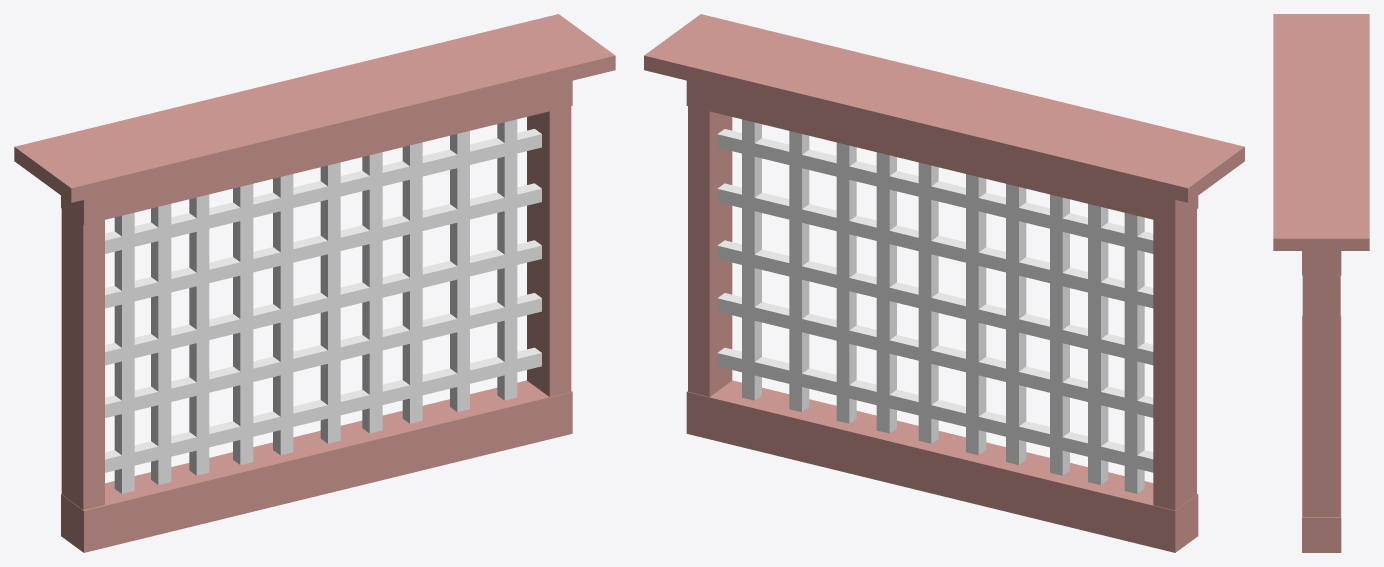
The model's file is sweethome3d-contributions-border-fence-170.glb.
3 views of the same model, side by side, from view 1: azimuth 30°, elevation 25°; view 2: azimuth 150°, elevation 25°; view 3: azimuth 270°, elevation 25° (orthographic). The views are drawn at different scales.
Visible parts, largest first — view 1: top, frame_2, frame_3, frame_1, frame, Cube_2_1, Cube_2_3, Cube_2_2, Cube_2, Cube_2_4, Cube_1_8, Cube_1_7 (+8 smaller); view 2: top, frame_2, frame_3, frame_1, frame, Cube_2_1, Cube_2_2, Cube_2_3, Cube_2_4, Cube_2, Cube_1_1, Cube_1_3 (+8 smaller); view 3: top, frame, frame_2, frame_3.
Part boxes in pixels (x1,y1,x2,y2): top: (14,14,615,202); frame_2: (61,380,572,552); frame_3: (61,80,572,224); frame_1: (61,209,104,509); frame: (527,106,571,396); Cube_2_1: (105,240,541,365); Cube_2_3: (105,129,541,253); Cube_2_2: (105,183,541,308); Cube_2: (105,293,541,417); Cube_2_4: (105,347,541,472); Cube_1_8: (151,204,171,484); Cube_1_7: (189,194,209,475); top: (644,14,1244,202); frame_2: (686,380,1198,552); frame_3: (686,80,1198,224); frame_1: (1153,209,1196,510); frame: (688,106,732,396); Cube_2_1: (717,240,1153,365); Cube_2_2: (717,183,1153,308); Cube_2_3: (717,129,1153,253); Cube_2_4: (717,347,1153,472); Cube_2: (717,293,1153,417); Cube_1_1: (789,131,809,411); Cube_1_3: (876,152,896,433); top: (1273,14,1369,250); frame: (1302,275,1340,516); frame_2: (1302,315,1341,552); frame_3: (1302,251,1341,275).
Bounding box in the file's own units: 6.15 × 4.15 × 1.11.
